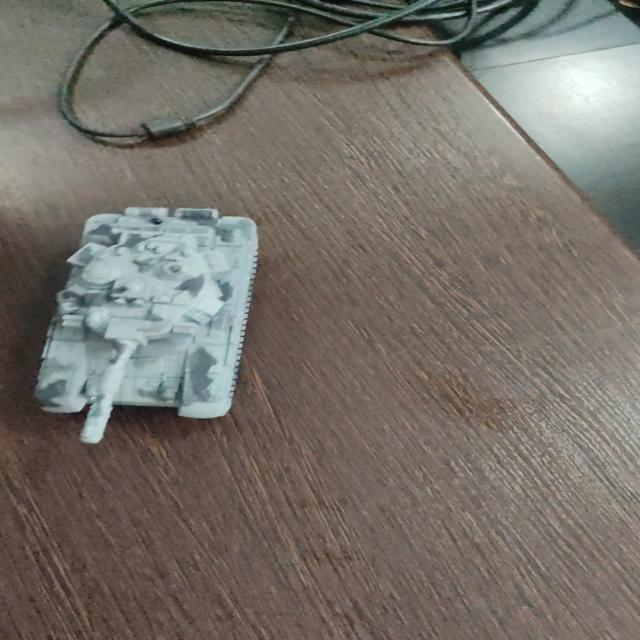tank: (28, 204, 263, 442)
